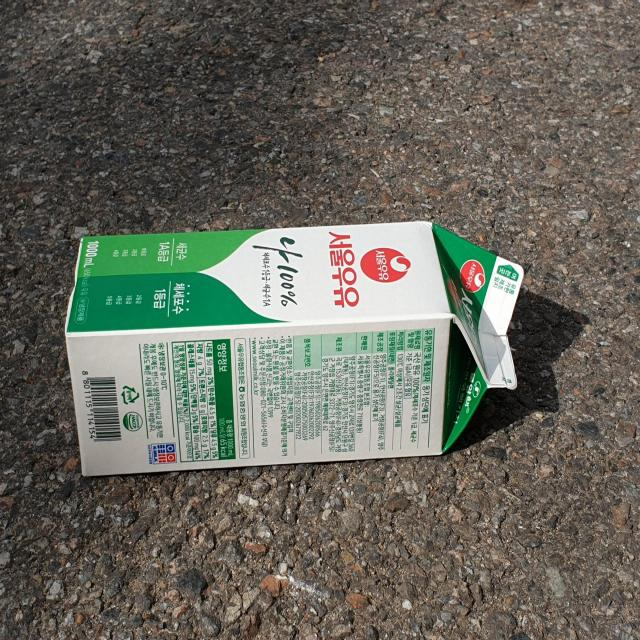paperpack: (65, 221, 524, 476)
